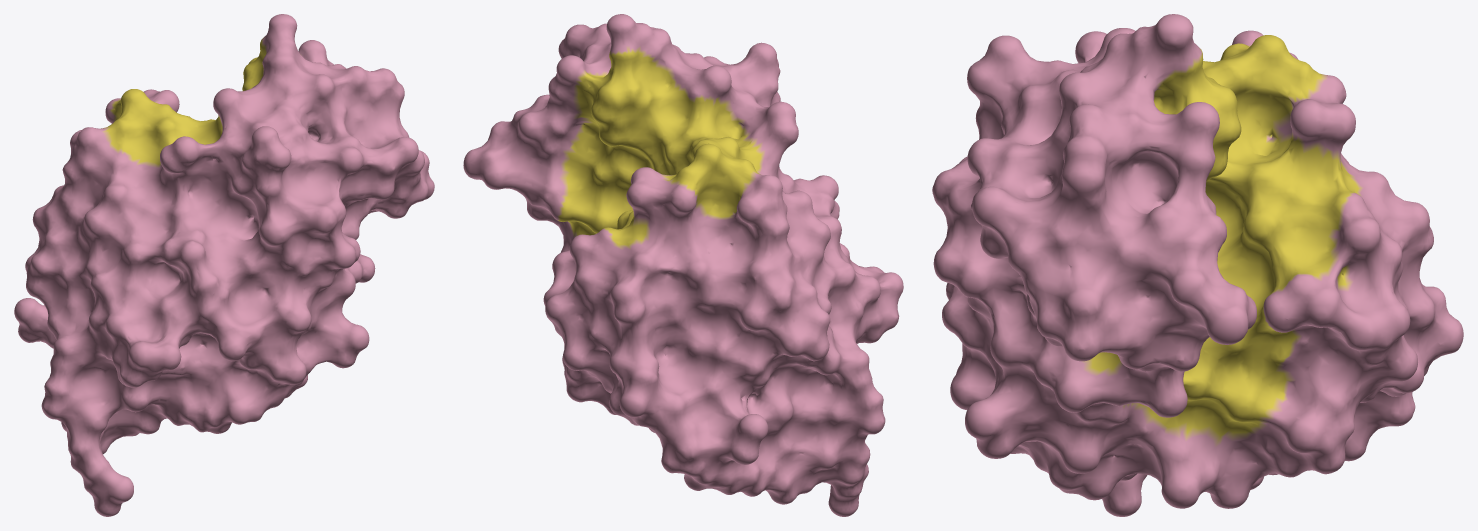
File: lysozyme.glb
The picture shows the model from 3 angles, left to right: view 1: azimuth 30°, elevation 25°; view 2: azimuth 150°, elevation 25°; view 3: azimuth 270°, elevation 25°; orthographic projection. The views are drawn at different scales.
Visible parts, largest first — view 1: Lysozyme_1LYZ; view 2: Lysozyme_1LYZ; view 3: Lysozyme_1LYZ.
Boxes of the visible parts, x1,y1,x2,y2 form: Lysozyme_1LYZ: (14, 14, 434, 516); Lysozyme_1LYZ: (463, 14, 903, 516); Lysozyme_1LYZ: (932, 14, 1463, 516).
Size of the model in its own units: 0.4151 by 0.4673 by 0.3549.
